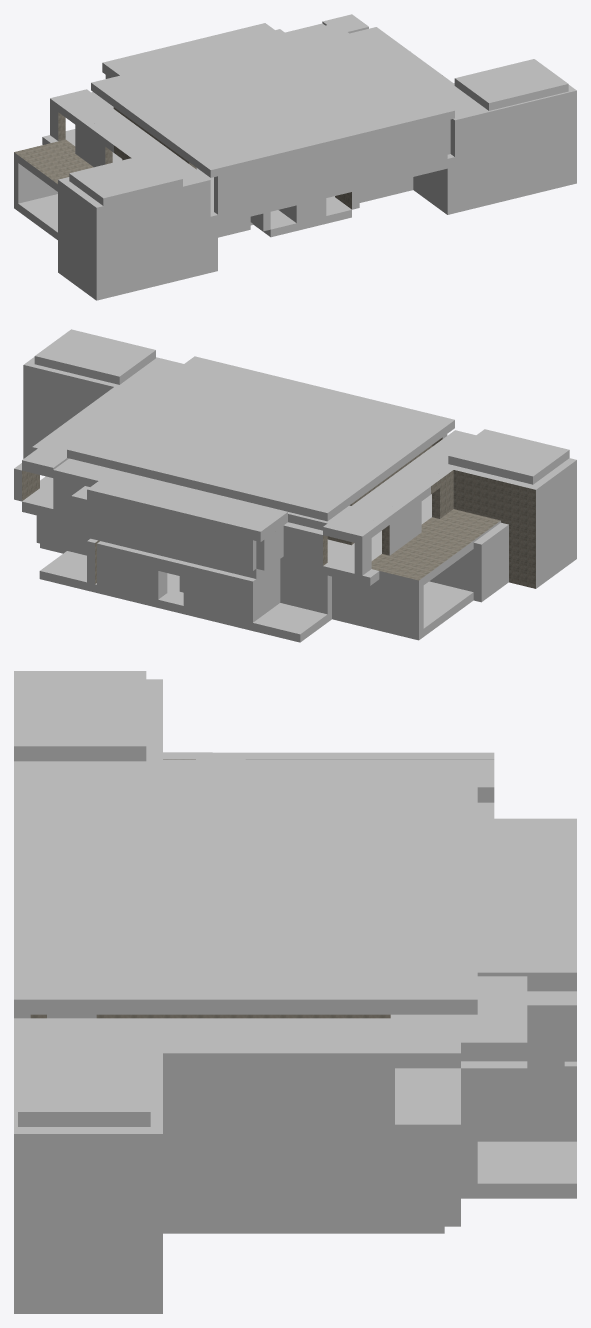
File: MansionExport.fbx
3 views of the same model, one above another, from view 1: azimuth 30°, elevation 25°; view 2: azimuth 150°, elevation 25°; view 3: azimuth 270°, elevation 25° (orthographic). The views are drawn at different scales.
Visible parts, largest first — view 1: Wall Mesh (1), white_plaster_ROOMS Mesh (1), WoodenFLoor Mesh (1); view 2: Wall Mesh (1), white_plaster_ROOMS Mesh (1), WoodenFLoor Mesh (1); view 3: Wall Mesh (1), WoodenFLoor Mesh (1), white_plaster_ROOMS Mesh (1).
Boxes of the visible parts, box(x1,y1,x2,y2) form: Wall Mesh (1): box(14, 14, 576, 300); white_plaster_ROOMS Mesh (1): box(14, 107, 351, 209); WoodenFLoor Mesh (1): box(18, 129, 454, 232); Wall Mesh (1): box(14, 329, 576, 642); white_plaster_ROOMS Mesh (1): box(22, 437, 535, 588); WoodenFLoor Mesh (1): box(22, 476, 473, 634); Wall Mesh (1): box(14, 671, 576, 1313); WoodenFLoor Mesh (1): box(395, 1068, 576, 1183); white_plaster_ROOMS Mesh (1): box(30, 759, 390, 1018).
Size of the model in its own units: 64.94 by 13.25 by 34.
